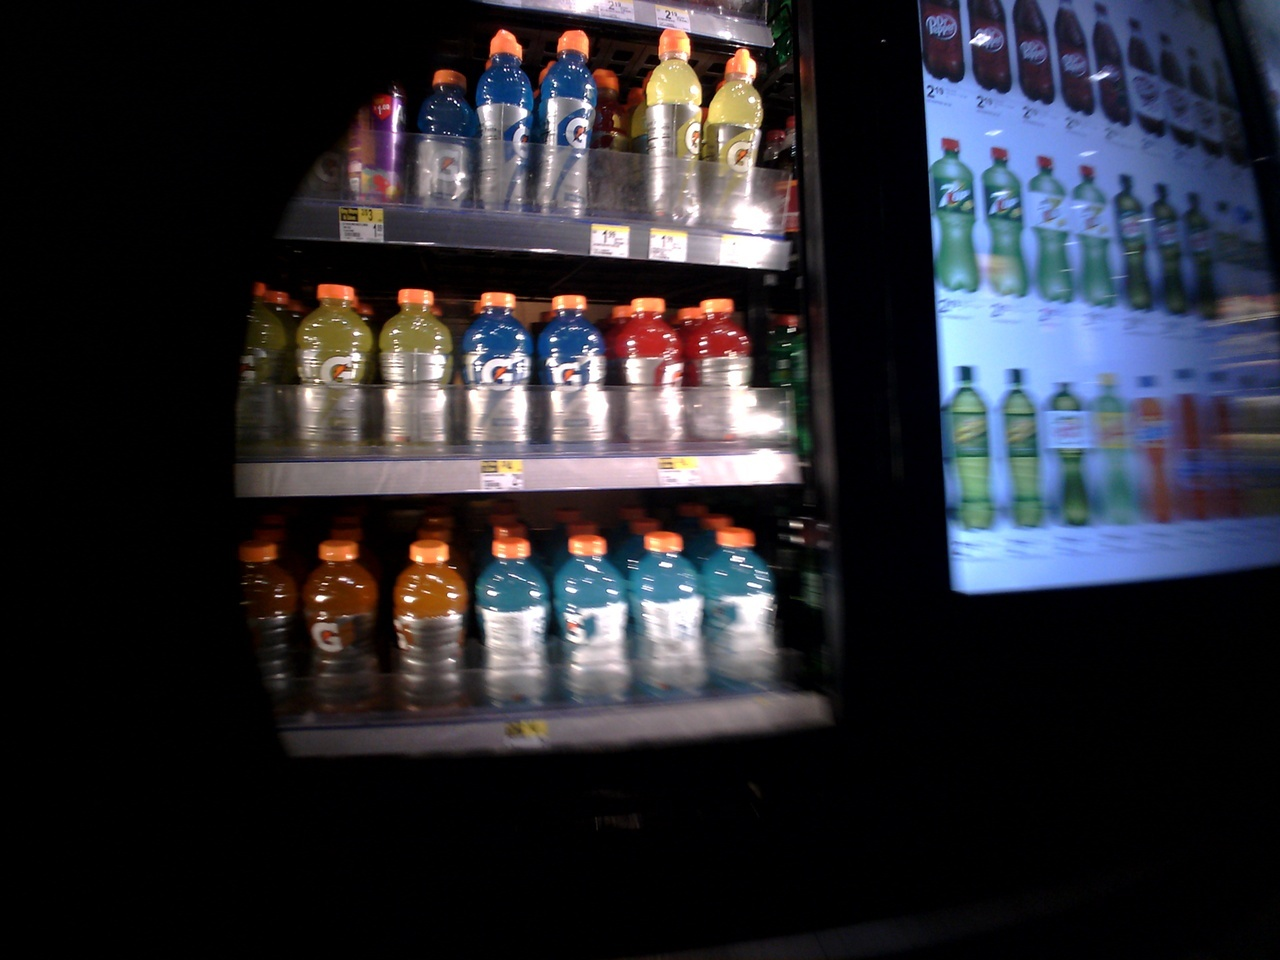shelf: (189, 499, 838, 760), (210, 9, 786, 264), (187, 268, 802, 487)
